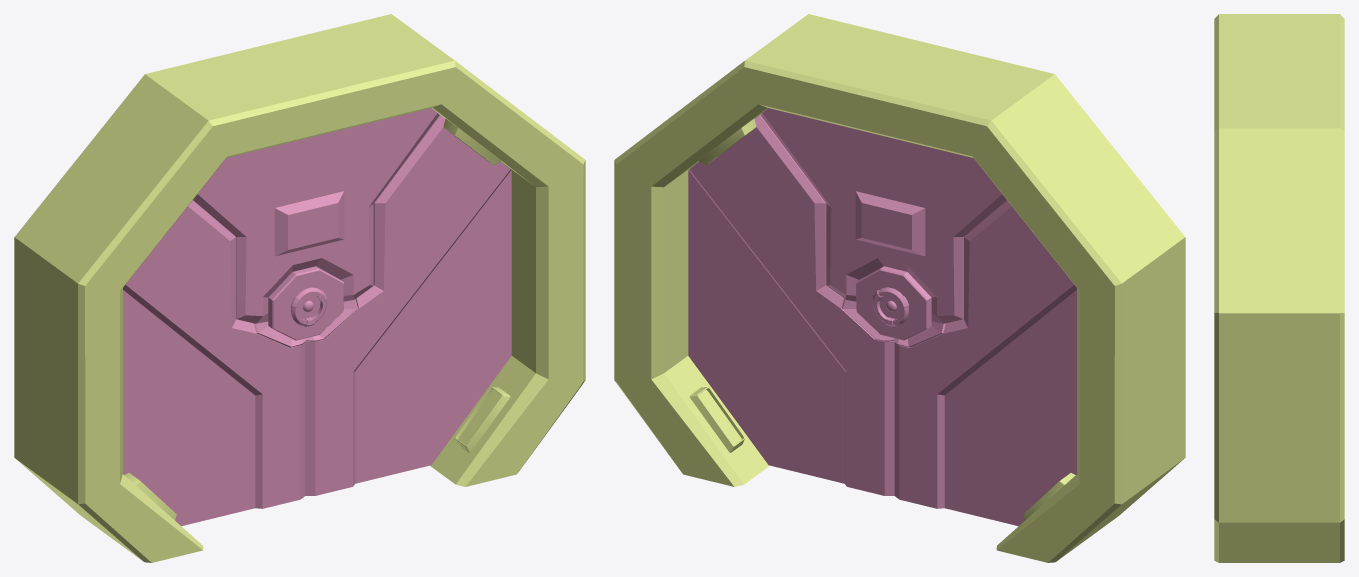
Rendered from Door.FBX.
3 renders of one model, left to right at view 1: azimuth 30°, elevation 25°; view 2: azimuth 150°, elevation 25°; view 3: azimuth 270°, elevation 25°, orthographic. The views are drawn at different scales.
Visible parts, largest first — view 1: Door_Frame; view 2: Door_Frame; view 3: Door_Frame.
Part boxes in pixels (left/top/right/bottom): Door_Frame: left=14, top=14, right=585, bottom=562; Door_Frame: left=614, top=14, right=1185, bottom=562; Door_Frame: left=1214, top=14, right=1344, bottom=562.
Bounding box in the file's own units: 3.29 × 2.64 × 0.7708.
